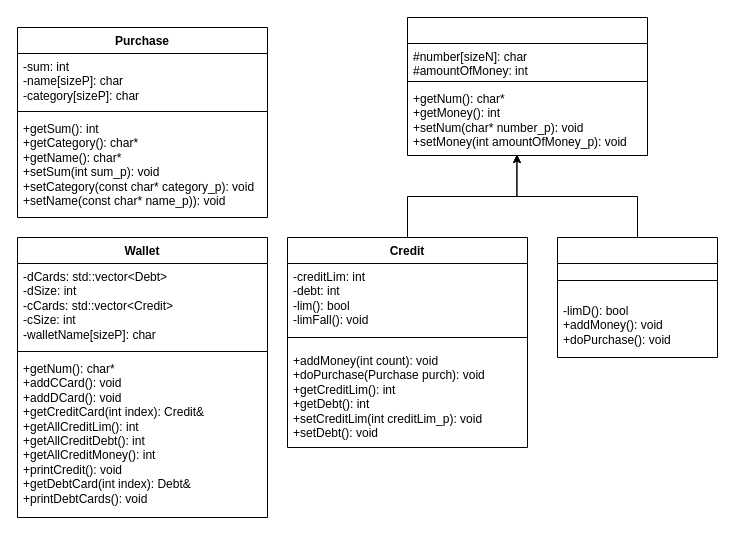
Image size: 735x538. Some labels were removed from this diagram. Each missing label, with the box of its shape:
Card: (406, 16, 648, 156)
Debt: (556, 236, 718, 358)
